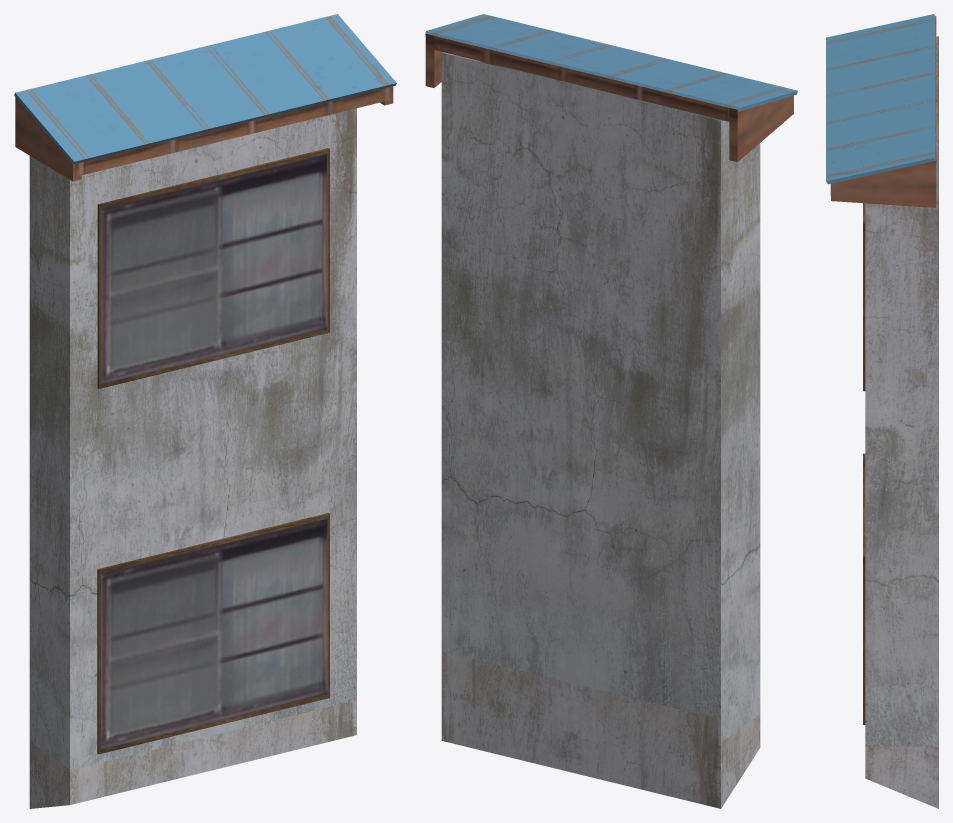
The model's file is ms_h01_side_1.fbx.
3 renders of one model, left to right at view 1: azimuth 30°, elevation 25°; view 2: azimuth 150°, elevation 25°; view 3: azimuth 270°, elevation 25°, orthographic. The views are drawn at different scales.
Visible parts, largest first — view 1: ms_h01_side_1; view 2: ms_h01_side_1; view 3: ms_h01_side_1.
Part boxes in pixels (bbox=[...]): ms_h01_side_1: bbox=[14, 14, 396, 808]; ms_h01_side_1: bbox=[425, 14, 797, 808]; ms_h01_side_1: bbox=[826, 14, 938, 808].
Bounding box in the file's own units: 211 × 450 × 69.74.
